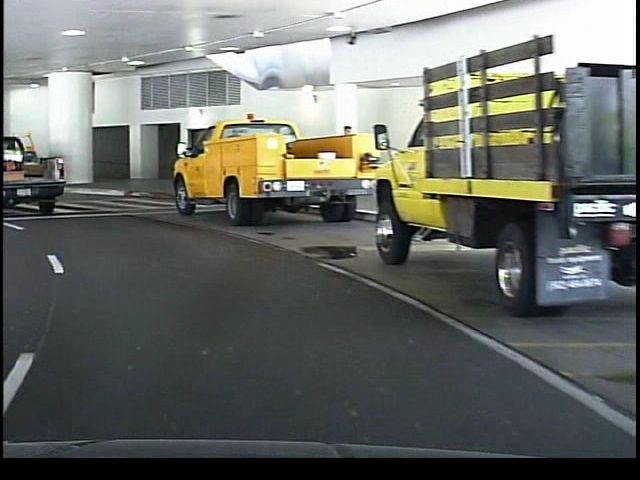person: (333, 119, 359, 201)
